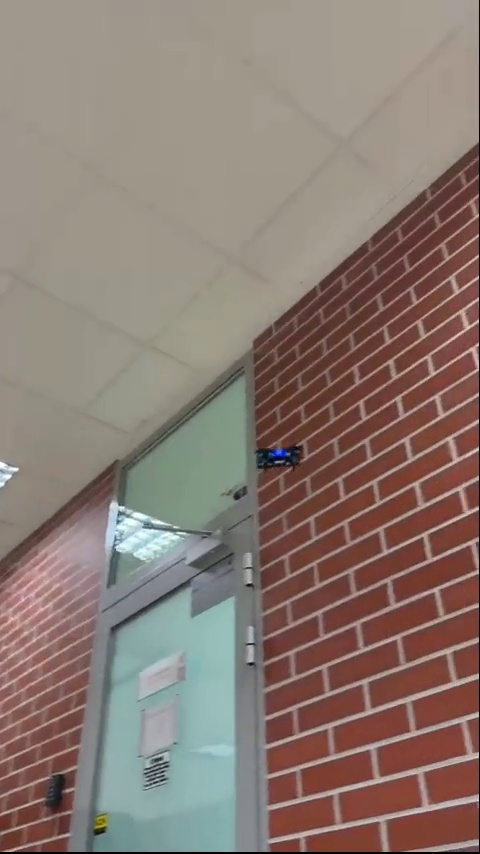drone: (260, 445, 307, 476)
